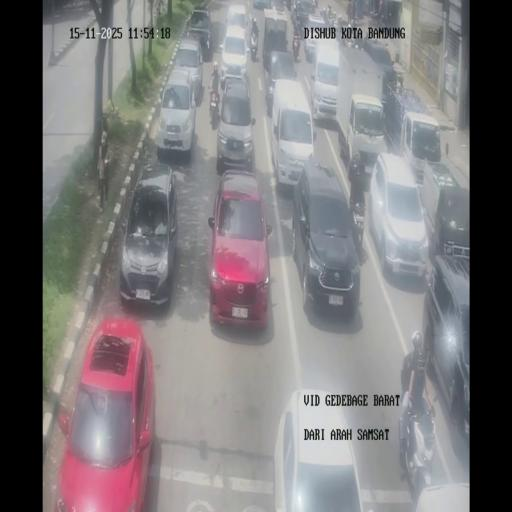3: (334, 39, 390, 171)
car: (55, 319, 155, 510), (274, 389, 366, 510), (292, 156, 360, 316), (206, 169, 272, 329), (422, 262, 469, 451), (118, 162, 178, 306), (369, 152, 429, 280), (419, 157, 469, 258), (154, 74, 198, 161), (215, 76, 254, 172), (400, 110, 442, 183), (312, 41, 340, 122), (264, 49, 296, 113), (220, 30, 249, 87), (188, 7, 213, 56), (305, 14, 328, 59), (225, 3, 247, 36), (270, 0, 285, 11)
truck: (398, 387, 436, 496), (349, 182, 366, 249), (343, 16, 360, 47), (208, 87, 220, 129), (392, 66, 405, 90), (330, 10, 342, 34), (292, 32, 301, 62), (250, 30, 258, 62), (290, 4, 300, 28), (320, 6, 330, 24), (283, 0, 292, 11), (311, 0, 318, 10)
